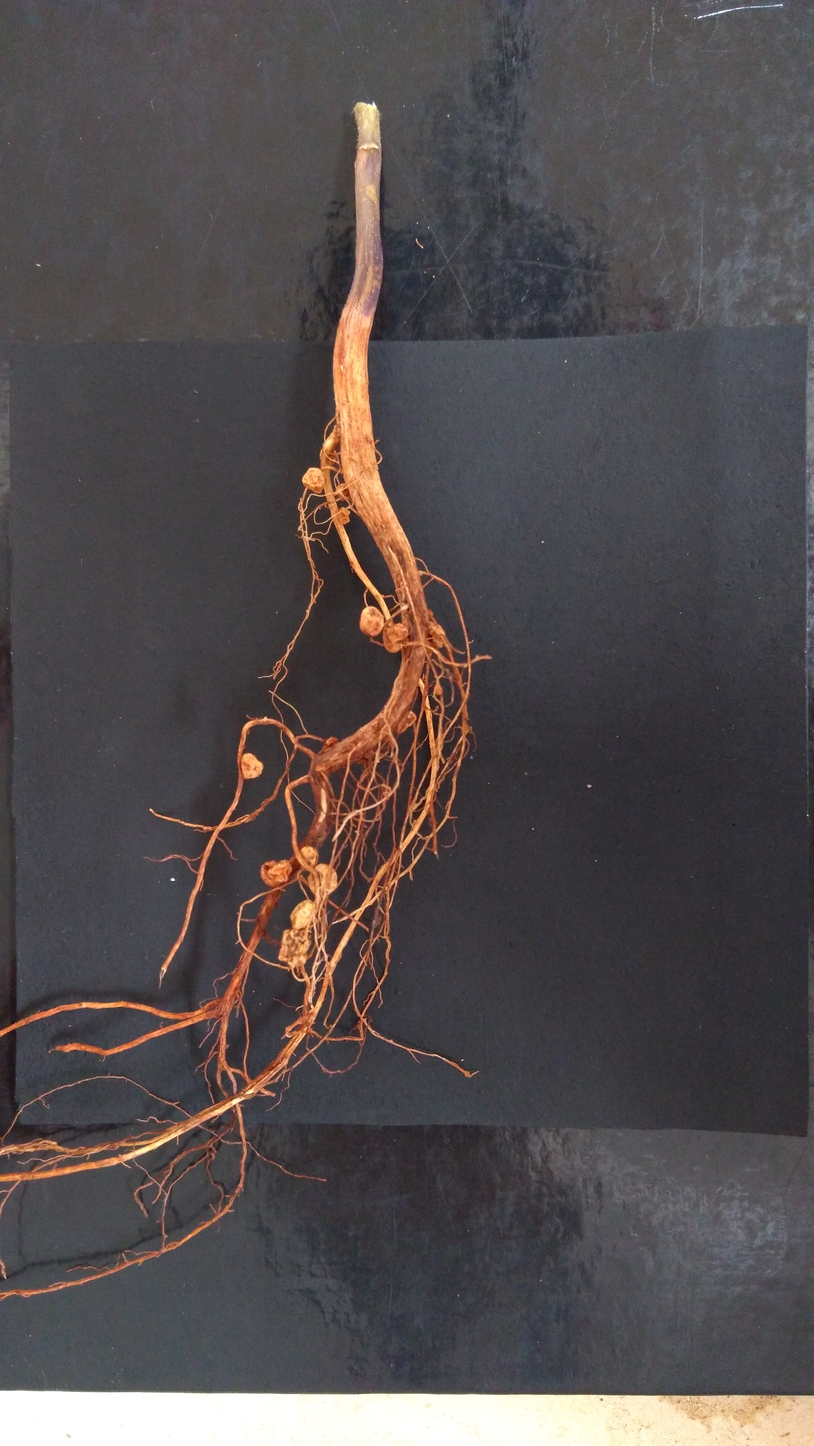nodule: (278, 928, 313, 968), (307, 863, 338, 898), (290, 899, 317, 931), (359, 606, 385, 636), (382, 623, 408, 653), (266, 859, 293, 884), (302, 467, 326, 494), (241, 752, 264, 780), (426, 620, 446, 649), (299, 845, 320, 872), (260, 860, 280, 888), (396, 709, 417, 734), (355, 745, 378, 765), (319, 448, 338, 466), (335, 506, 351, 525), (322, 736, 339, 753), (335, 482, 349, 502), (426, 607, 434, 621), (434, 684, 443, 695)
